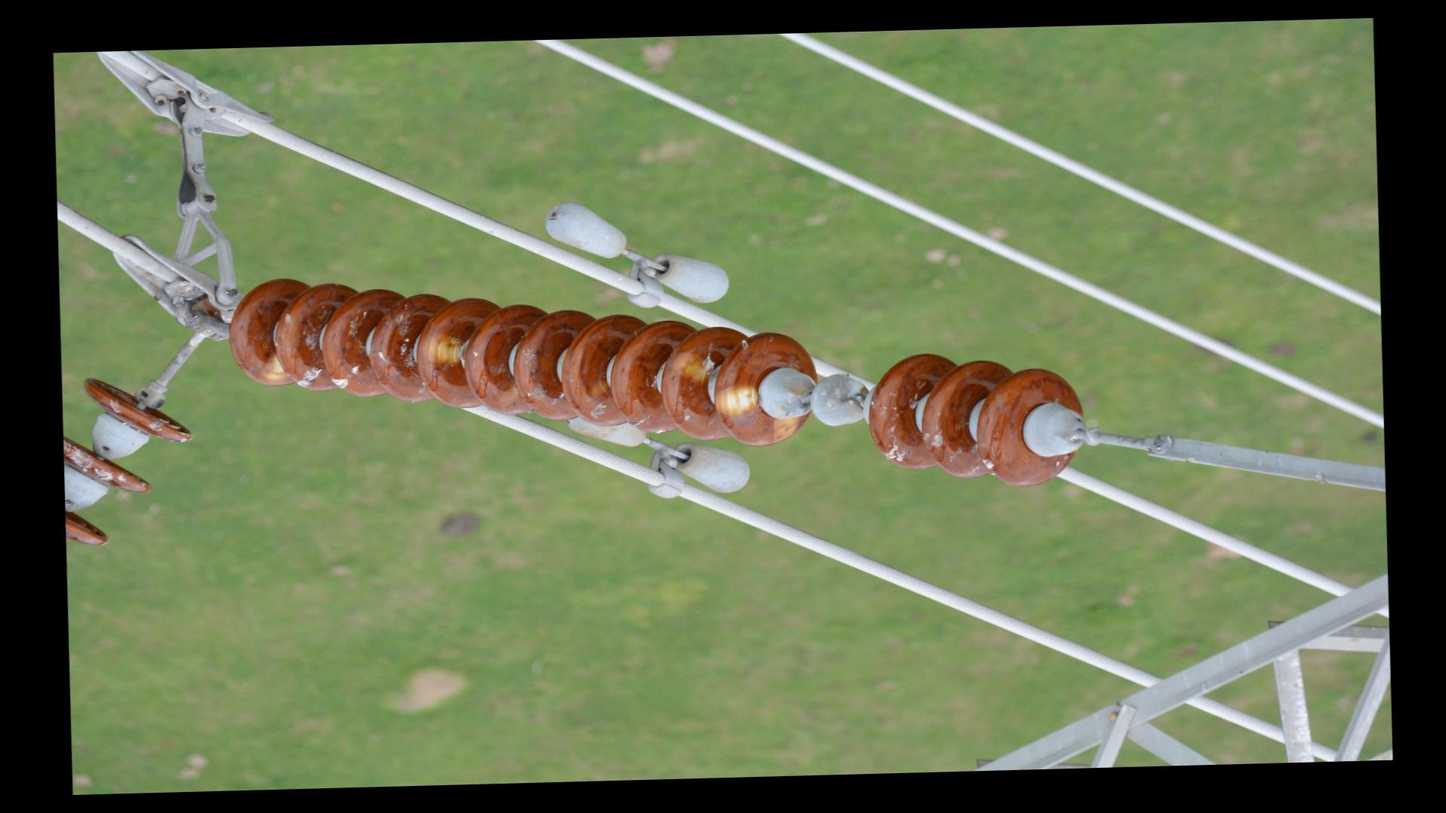damper: (540, 193, 734, 316), (562, 410, 755, 506)
